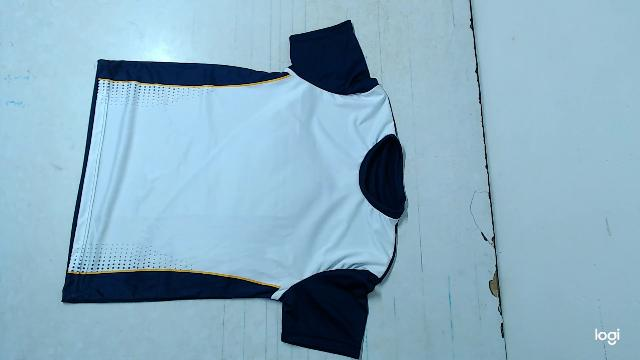new-garment: (63, 21, 406, 358)
